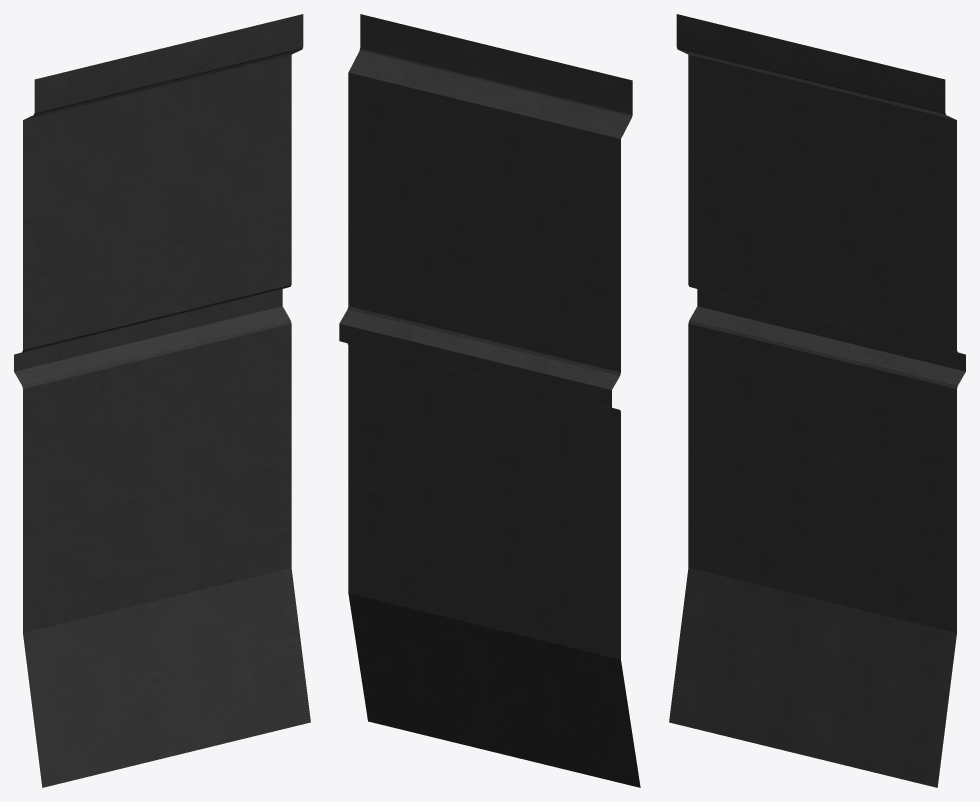
Rendered from M_Wall_Straight_4x10_v2.fbx.
3 views of the same model, side by side, from view 1: azimuth 30°, elevation 25°; view 2: azimuth 150°, elevation 25°; view 3: azimuth 330°, elevation 25° (orthographic).
Visible parts, largest first — view 1: Wall_Straight_4x10_v2; view 2: Wall_Straight_4x10_v2; view 3: Wall_Straight_4x10_v2.
Part boxes in pixels (left/top/right/bottom): Wall_Straight_4x10_v2: left=14, top=14, right=310, bottom=787; Wall_Straight_4x10_v2: left=339, top=14, right=640, bottom=787; Wall_Straight_4x10_v2: left=669, top=14, right=965, bottom=787.
Bounding box in the file's own units: 400 × 1000 × 73.02.
